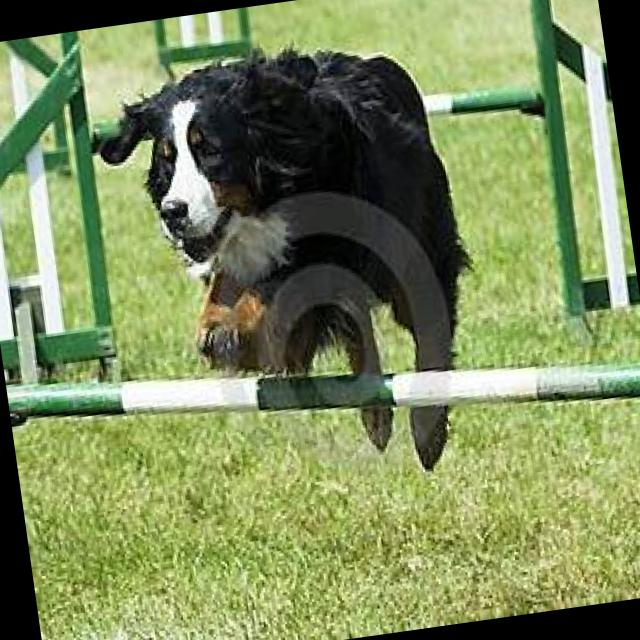dog: (84, 33, 488, 512)
